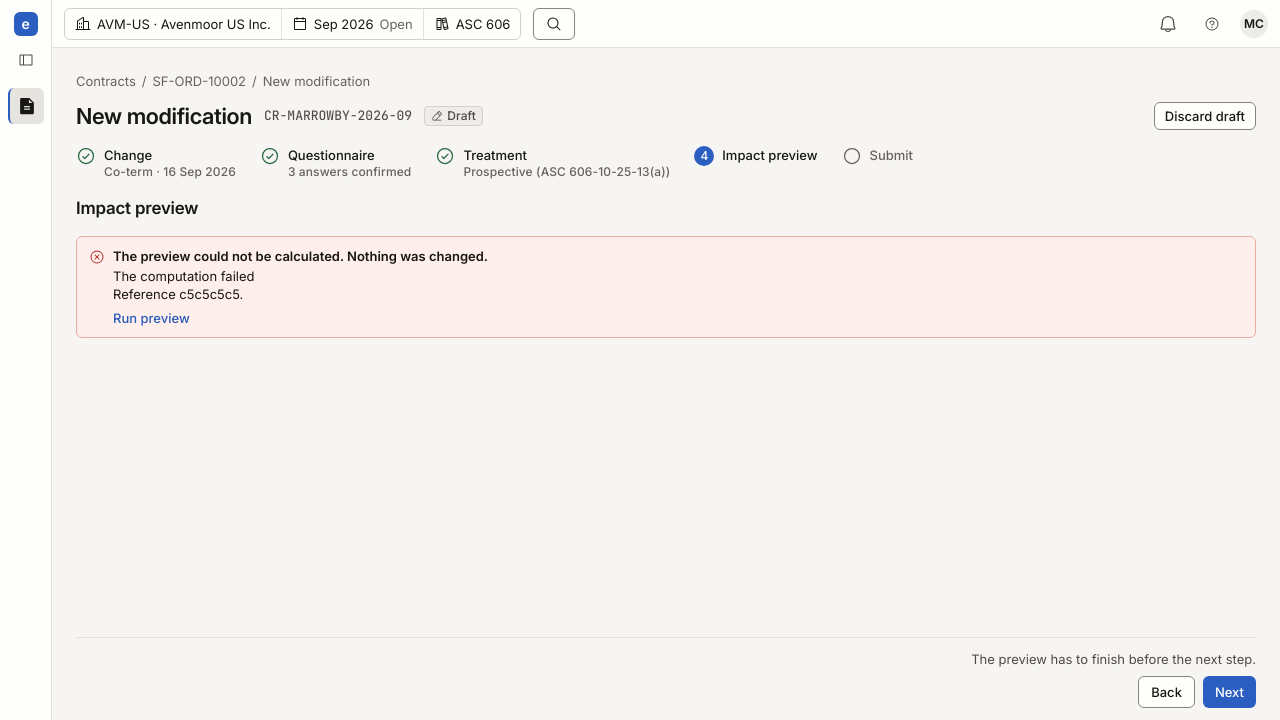
Test case: SF-07 the wizard of a draft › the preview step shows the figures of the stored preview and a failed run
Expected: the heading "The preview could not be calculated. Nothing was changed." is shown, [113,248,488,264]
Expected: the text "The computation failed" is shown, [113,268,254,284]
What coordinates should you click on to do the following:
click the button "Run preview"
I would click on:
 (151, 318)
Its box is [113,309,190,327].
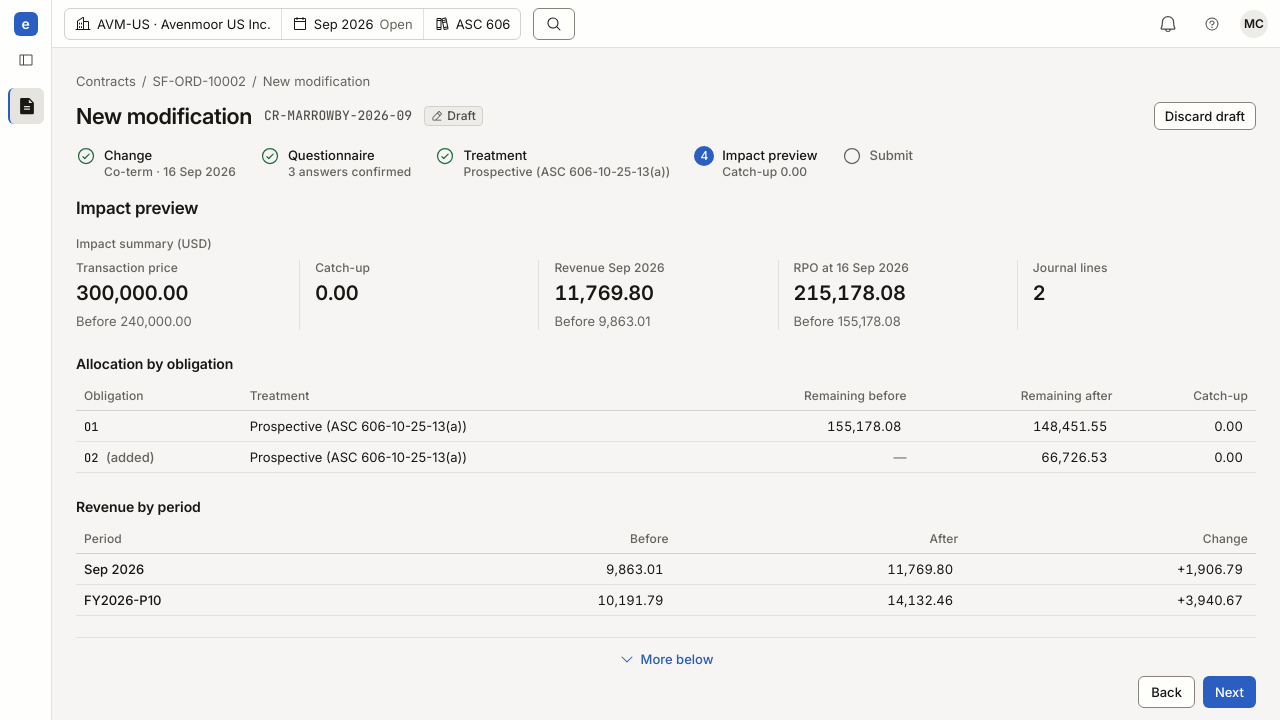
Now the column headings read "Obligation", "Treatment", "Remaining before", "Remaining after", "Catch-up", in this order, box [76,382,242,410]; [242,382,688,410]; [688,382,914,410]; [915,382,1120,410]; [1120,382,1256,410]
Now the row "O2 (added)" shows "66,726.53", box [1041,449,1107,465]
Now the table "Journal preview" is shown, box [76,640,1256,719]
